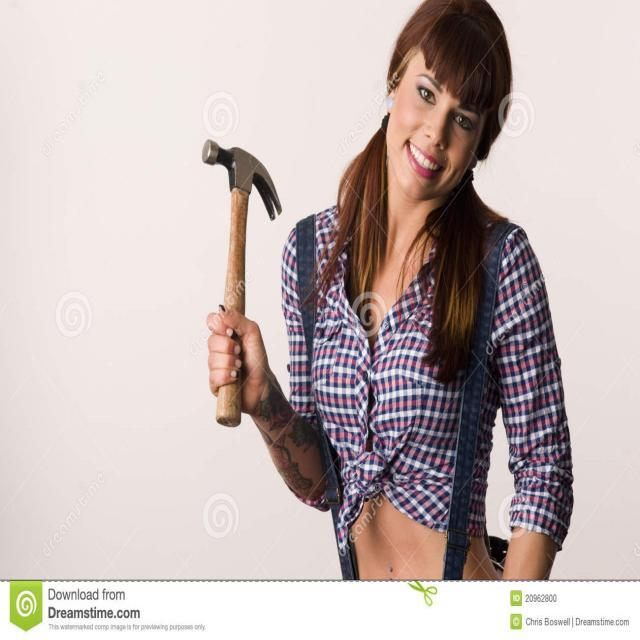hammer: (193, 134, 287, 436)
